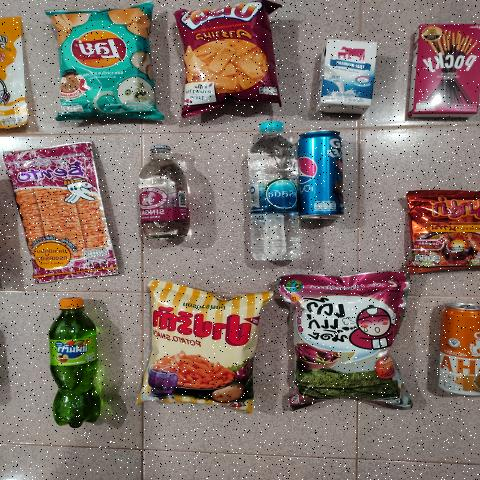bento_red: (15, 141, 115, 285)
crystal: (246, 121, 298, 263)
fanta_green: (49, 298, 99, 430)
lay_blue: (57, 9, 157, 115)
mama: (410, 197, 480, 270)
paprika: (138, 290, 260, 403)
party_red: (174, 9, 264, 107)
pepsi_blue: (294, 125, 346, 225)
pokki: (411, 24, 480, 117)
singha_soda: (138, 144, 192, 241)
singha_yellow: (441, 304, 480, 399)
taokaenoi: (289, 279, 398, 409)
thai_denmark: (318, 38, 379, 109)
